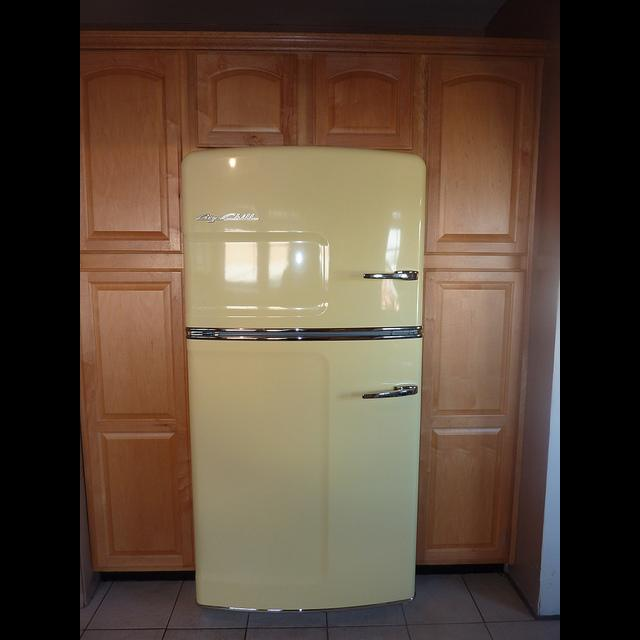Refrigerator: (178, 149, 427, 615)
